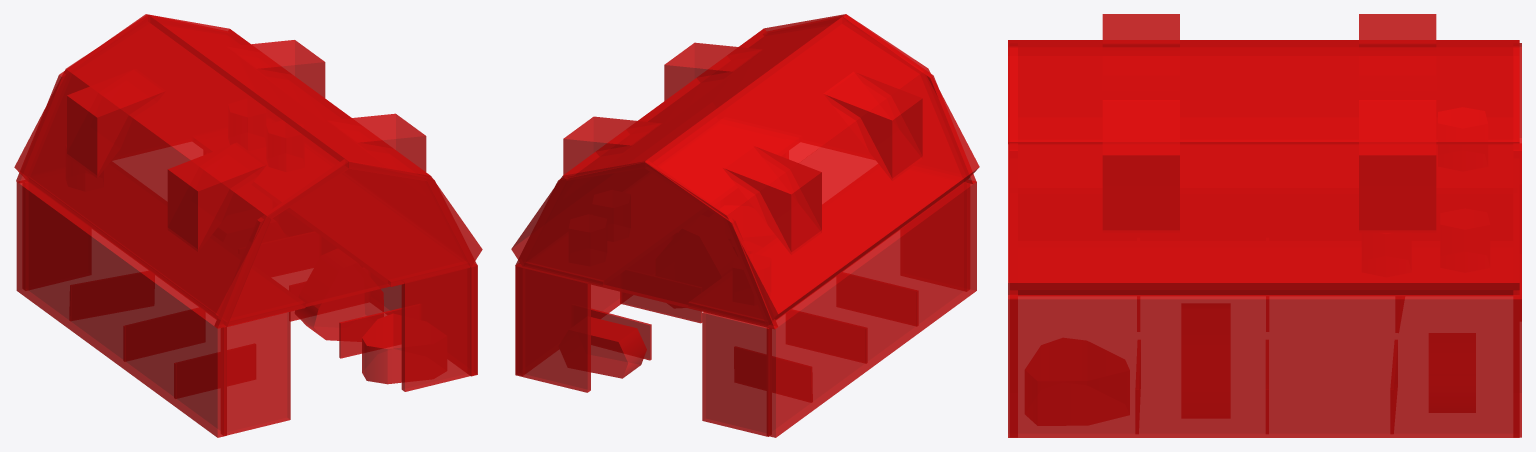
File: SM_Bld_Barn_01_Collision.fbx
3 renders of one model, left to right at view 1: azimuth 30°, elevation 25°; view 2: azimuth 150°, elevation 25°; view 3: azimuth 270°, elevation 25°, orthographic. The views are drawn at different scales.
Parts seen in each view (by area): view 1: SM_Bld_Barn_01_Collision; view 2: SM_Bld_Barn_01_Collision; view 3: SM_Bld_Barn_01_Collision.
Boxes of the visible parts, x1=… form: SM_Bld_Barn_01_Collision: x1=14, y1=14, x2=482, y2=437; SM_Bld_Barn_01_Collision: x1=511, y1=14, x2=979, y2=437; SM_Bld_Barn_01_Collision: x1=1008, y1=14, x2=1521, y2=437.
Size of the model in its own units: 815 by 732 by 1068.
